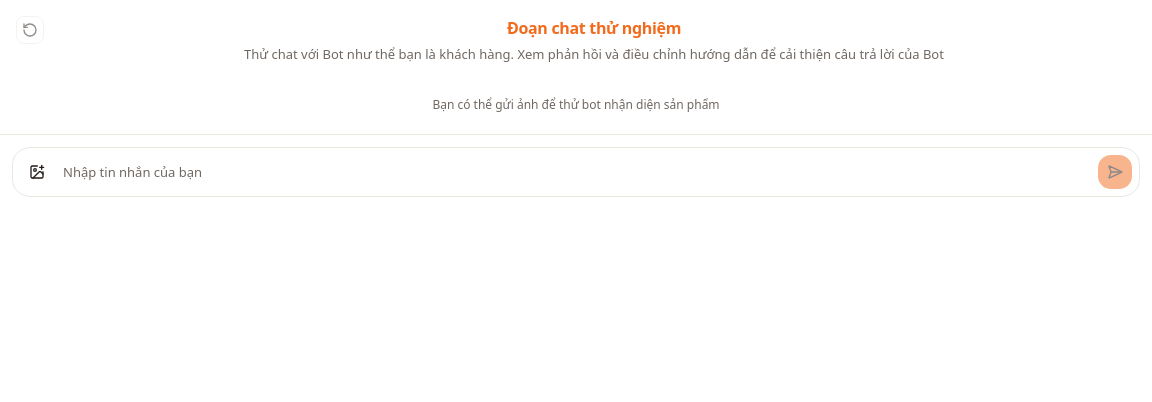
Test: TestChat quick replies › shows the pills under the last bubble of the newest bot message
This screenshot has width=1152, height=402.
Type "chot don" into the text box labelled "Nhập tin nhắn của bạn" at (576, 172), box [63,154,1089,190]
Then press Enter
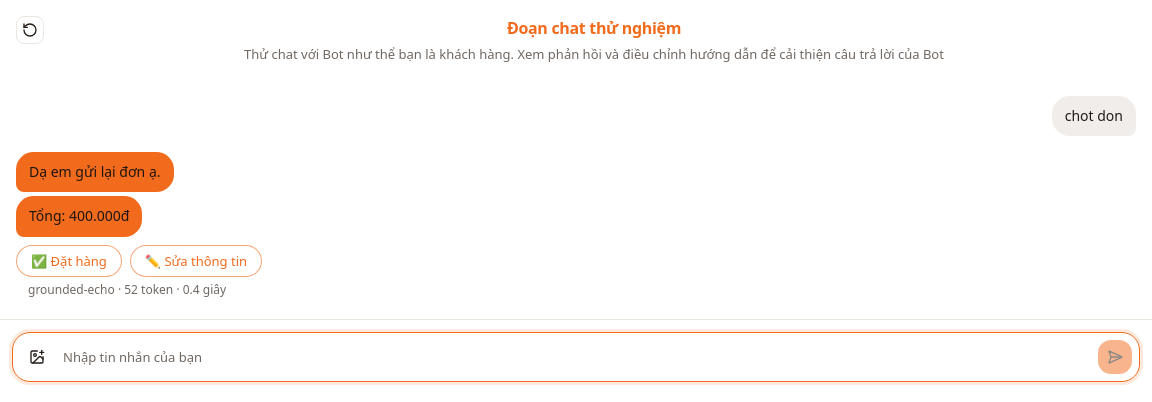
Expected: the button "✅ Đặt hàng" is shown, [16,245,122,277]
Expected: the button "✏️ Sửa thông tin" is shown, [130,245,262,277]
